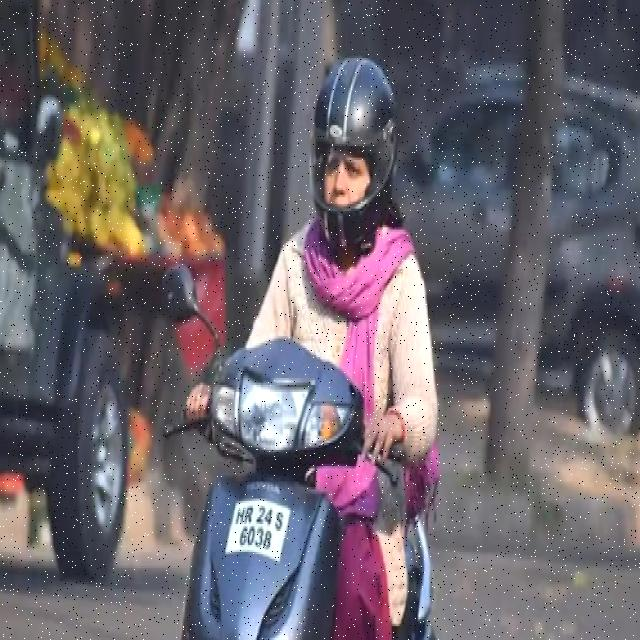not_triplets: (177, 35, 428, 640)
with-helmet: (311, 49, 396, 248)
